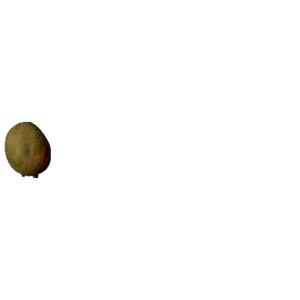mamão: (3, 117, 58, 176)
